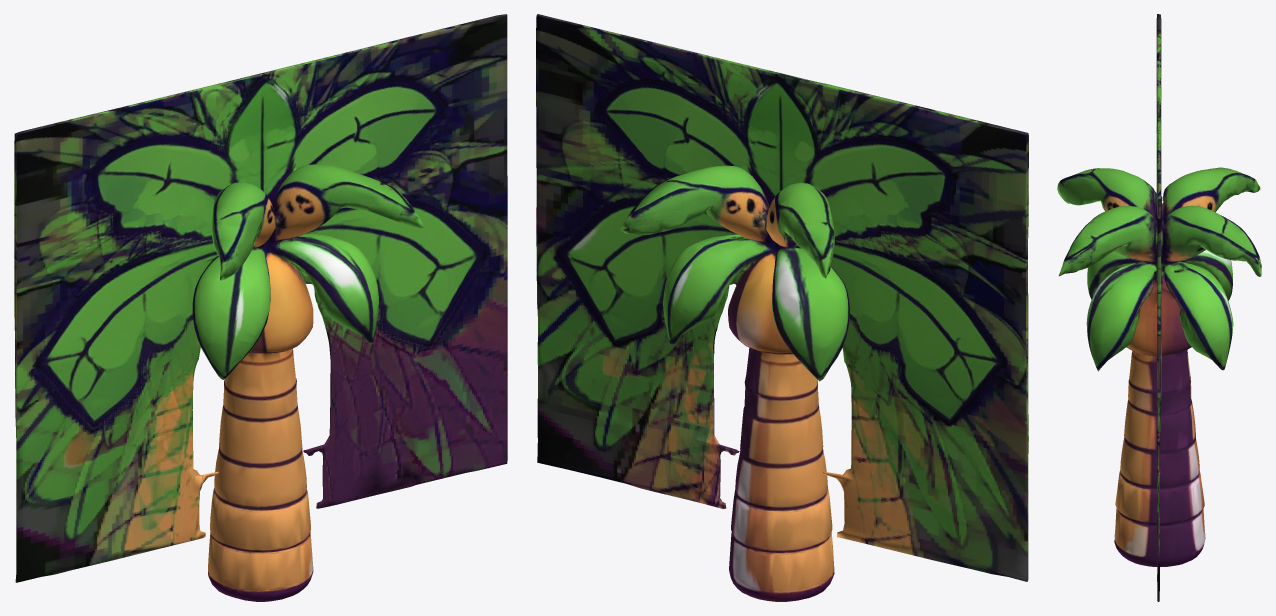
Rendered from palmiye.glb.
3 views of the same model, side by side, from view 1: azimuth 30°, elevation 25°; view 2: azimuth 150°, elevation 25°; view 3: azimuth 270°, elevation 25° (orthographic). The views are drawn at different scales.
Parts seen in each view (by area): view 1: world_1; view 2: world_1; view 3: world_1.
Part boxes in pixels (box(x1,y1,x2,y2)): world_1: box(14, 14, 507, 601); world_1: box(536, 14, 1028, 601); world_1: box(1057, 14, 1261, 601).
Bounding box in the file's own units: 1 × 1 × 0.4224.
Materials: 1 (1 with a texture image).
